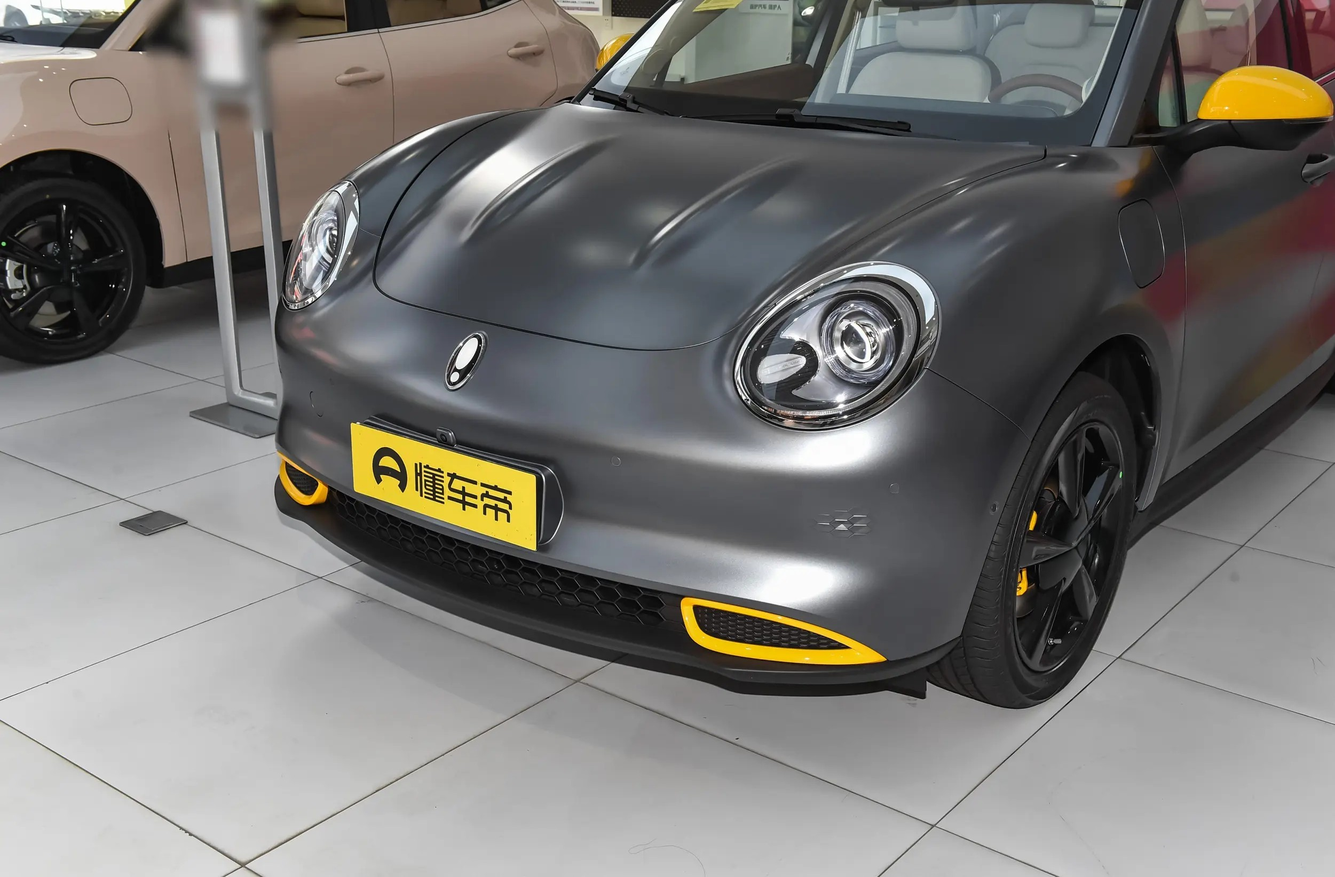ORA: (445, 333, 485, 389)
